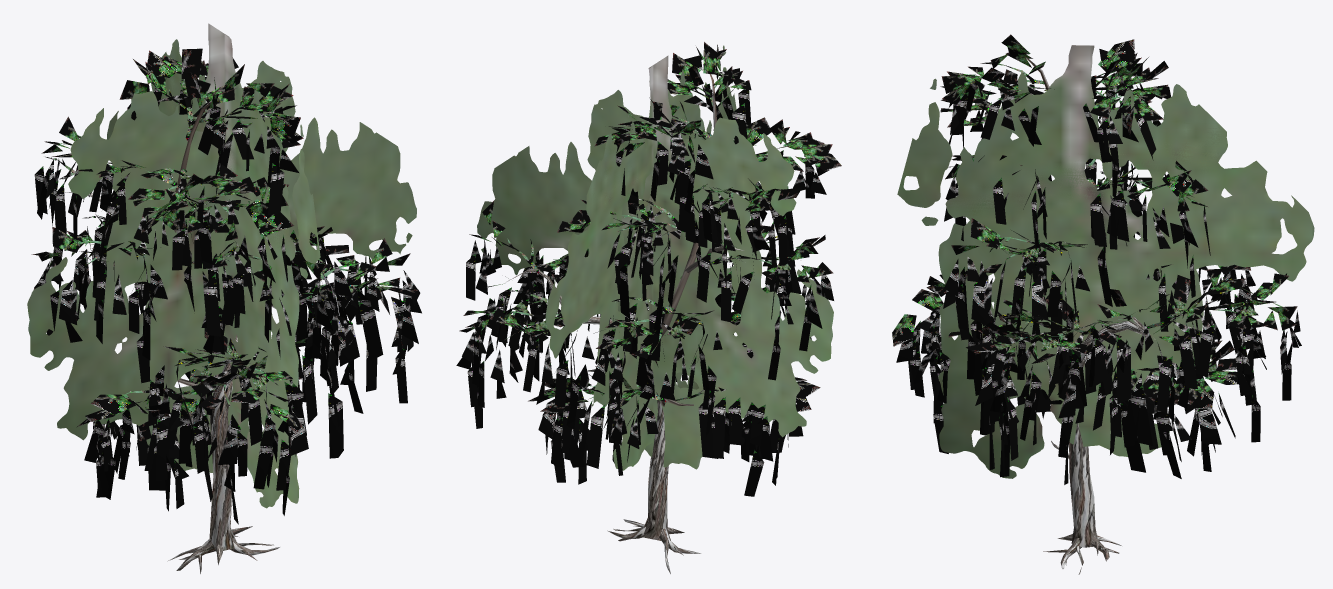
Rendered from birchtree2.glb.
3 views of the same model, side by side, from view 1: azimuth 30°, elevation 25°; view 2: azimuth 150°, elevation 25°; view 3: azimuth 270°, elevation 25° (orthographic). The views are drawn at different scales.
Parts seen in each view (by area): view 1: BirchTree2; view 2: BirchTree2; view 3: BirchTree2.
Boxes of the visible parts, left/top/right/bottom form: BirchTree2: left=27, top=23, right=421, bottom=573; BirchTree2: left=456, top=42, right=841, bottom=573; BirchTree2: left=892, top=34, right=1314, bottom=574.
Bounding box in the file's own units: 16.07 × 20.59 × 15.37.
Materials: 3 (3 with a texture image).
